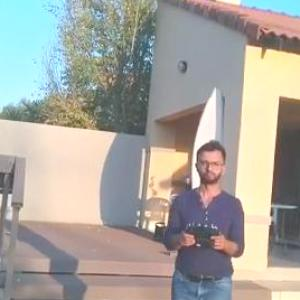follow: (158, 132, 250, 299)
